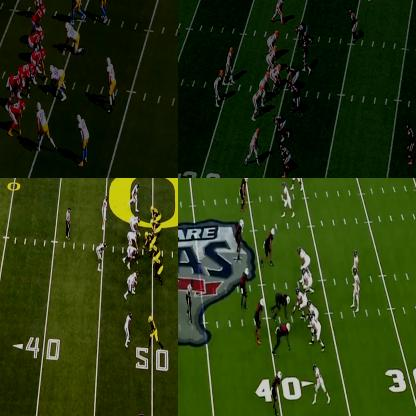CENTER: (295, 289, 308, 321), (36, 50, 49, 80), (272, 62, 284, 90), (142, 232, 156, 252)
DB: (407, 123, 415, 165), (280, 145, 290, 178), (271, 369, 283, 396), (124, 312, 132, 350), (240, 178, 247, 209)
LB: (79, 115, 90, 162), (106, 57, 115, 112), (254, 295, 263, 342), (66, 0, 84, 23), (291, 84, 302, 115), (302, 34, 310, 73), (126, 271, 138, 296), (237, 218, 244, 260), (101, 196, 109, 229), (350, 7, 359, 36), (95, 243, 106, 266), (130, 182, 139, 209), (239, 268, 248, 295), (96, 0, 108, 19)
QB: (226, 46, 234, 86), (352, 274, 360, 314)
SKILL: (313, 366, 327, 404), (9, 98, 23, 135), (148, 317, 163, 351), (248, 130, 261, 165), (281, 182, 294, 217), (213, 70, 222, 108), (272, 0, 286, 23), (352, 249, 359, 274), (291, 178, 303, 190)
